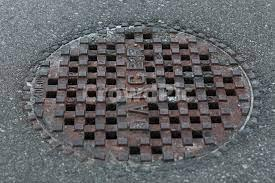closed manhole-not overflowing-: (31, 28, 254, 163)
